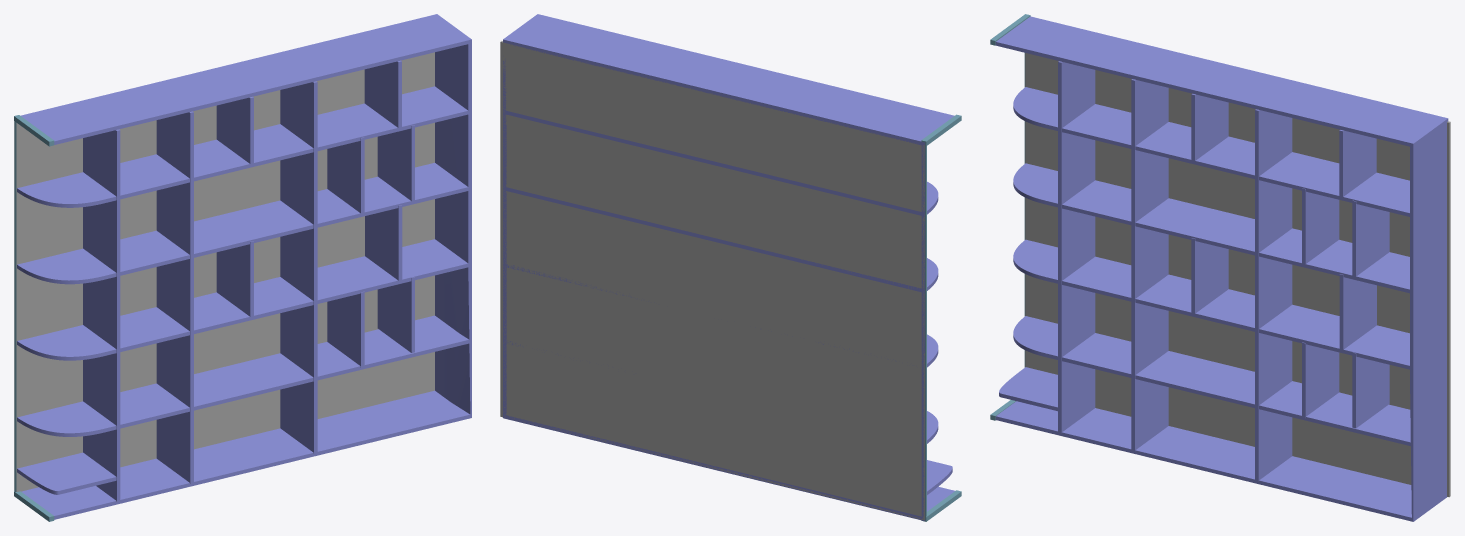
The model's file is cabinet.glb.
The picture shows the model from 3 angles, left to right: view 1: azimuth 30°, elevation 25°; view 2: azimuth 150°, elevation 25°; view 3: azimuth 330°, elevation 25°; orthographic projection.
Visible parts, largest first — view 1: Box008, Rectangle001, Box007, Box005, Box006, Box004, Box003, Box002, Box001, Box017, Box012, Box015 (+7 smaller); view 2: Box008, Rectangle001, Box004, Box005, Box019, Box017, Box006; view 3: Box008, Rectangle001, Box007, Box004, Box006, Box005, Box002, Box003, Box001, Box012, Box009, Box013 (+6 smaller).
Part boxes in pixels (x1,y1,x2,y2): Box008: (16, 52, 434, 491); Rectangle001: (20, 14, 471, 519); Box007: (17, 315, 469, 436); Box005: (17, 162, 468, 284); Box006: (17, 239, 469, 360); Box004: (17, 86, 468, 207); Box003: (280, 81, 317, 453); Box002: (156, 111, 193, 483); Box001: (83, 129, 120, 501); Box017: (17, 452, 116, 494); Box012: (365, 205, 402, 280); Box015: (327, 291, 364, 367); Box008: (500, 41, 924, 520); Rectangle001: (503, 14, 954, 520); Box004: (505, 110, 938, 216); Box005: (505, 187, 938, 292); Box019: (924, 145, 926, 521); Box017: (927, 460, 952, 494); Box006: (506, 264, 938, 367); Box008: (1025, 53, 1450, 497); Rectangle001: (995, 16, 1448, 521); Box007: (1013, 316, 1411, 446); Box004: (1013, 87, 1409, 216); Box006: (1013, 239, 1411, 369); Box005: (1013, 163, 1409, 293); Box002: (1131, 79, 1168, 451); Box003: (1255, 109, 1292, 481); Box001: (1058, 61, 1095, 433); Box012: (1339, 274, 1376, 349); Box009: (1191, 238, 1228, 313); Box013: (1352, 200, 1389, 276).
Size of the model in its own units: 2.12 by 1.81 by 0.3036.
